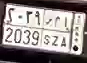0: (13, 12, 23, 44)
2: (3, 5, 15, 44)
3: (22, 9, 33, 46)
9: (32, 9, 42, 47)
A: (60, 16, 69, 50)
S: (44, 16, 52, 47)
Z: (51, 15, 61, 47)
